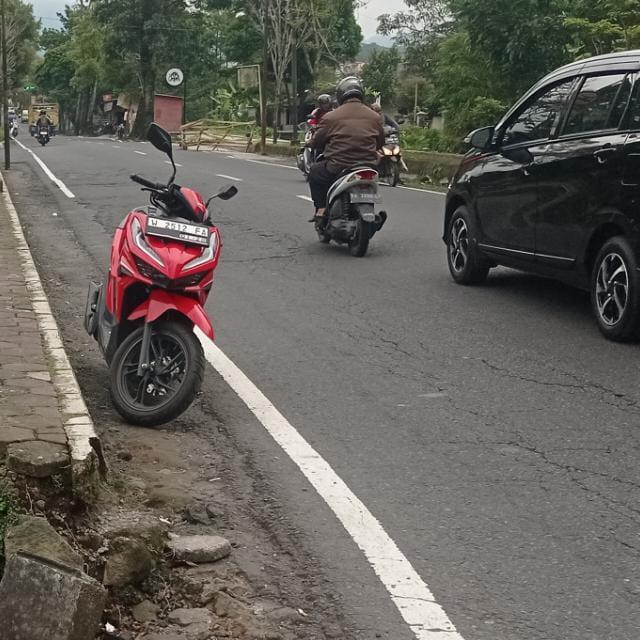retak_memanjang: (378, 333, 640, 581)
